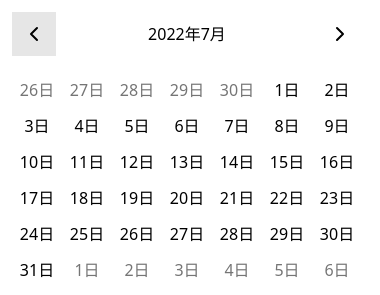
RangeCalendar across months › Should switch to prev month
Expected: the heading "2022年7月" is shown, [148,22,226,46]
Click the button named "prev-month".
click(34, 34)  # box [12,12,56,56]
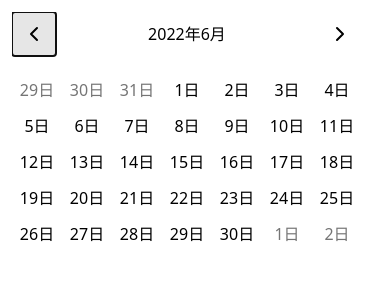
Expected: the heading "2022年6月" is shown, [148,22,226,46]
Click the button named "next-month".
click(340, 34)  # box [318,12,362,56]
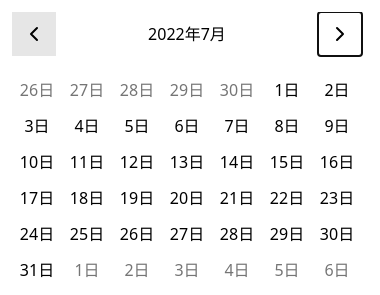
Expected: the heading "2022年7月" is shown, [148,22,226,46]
